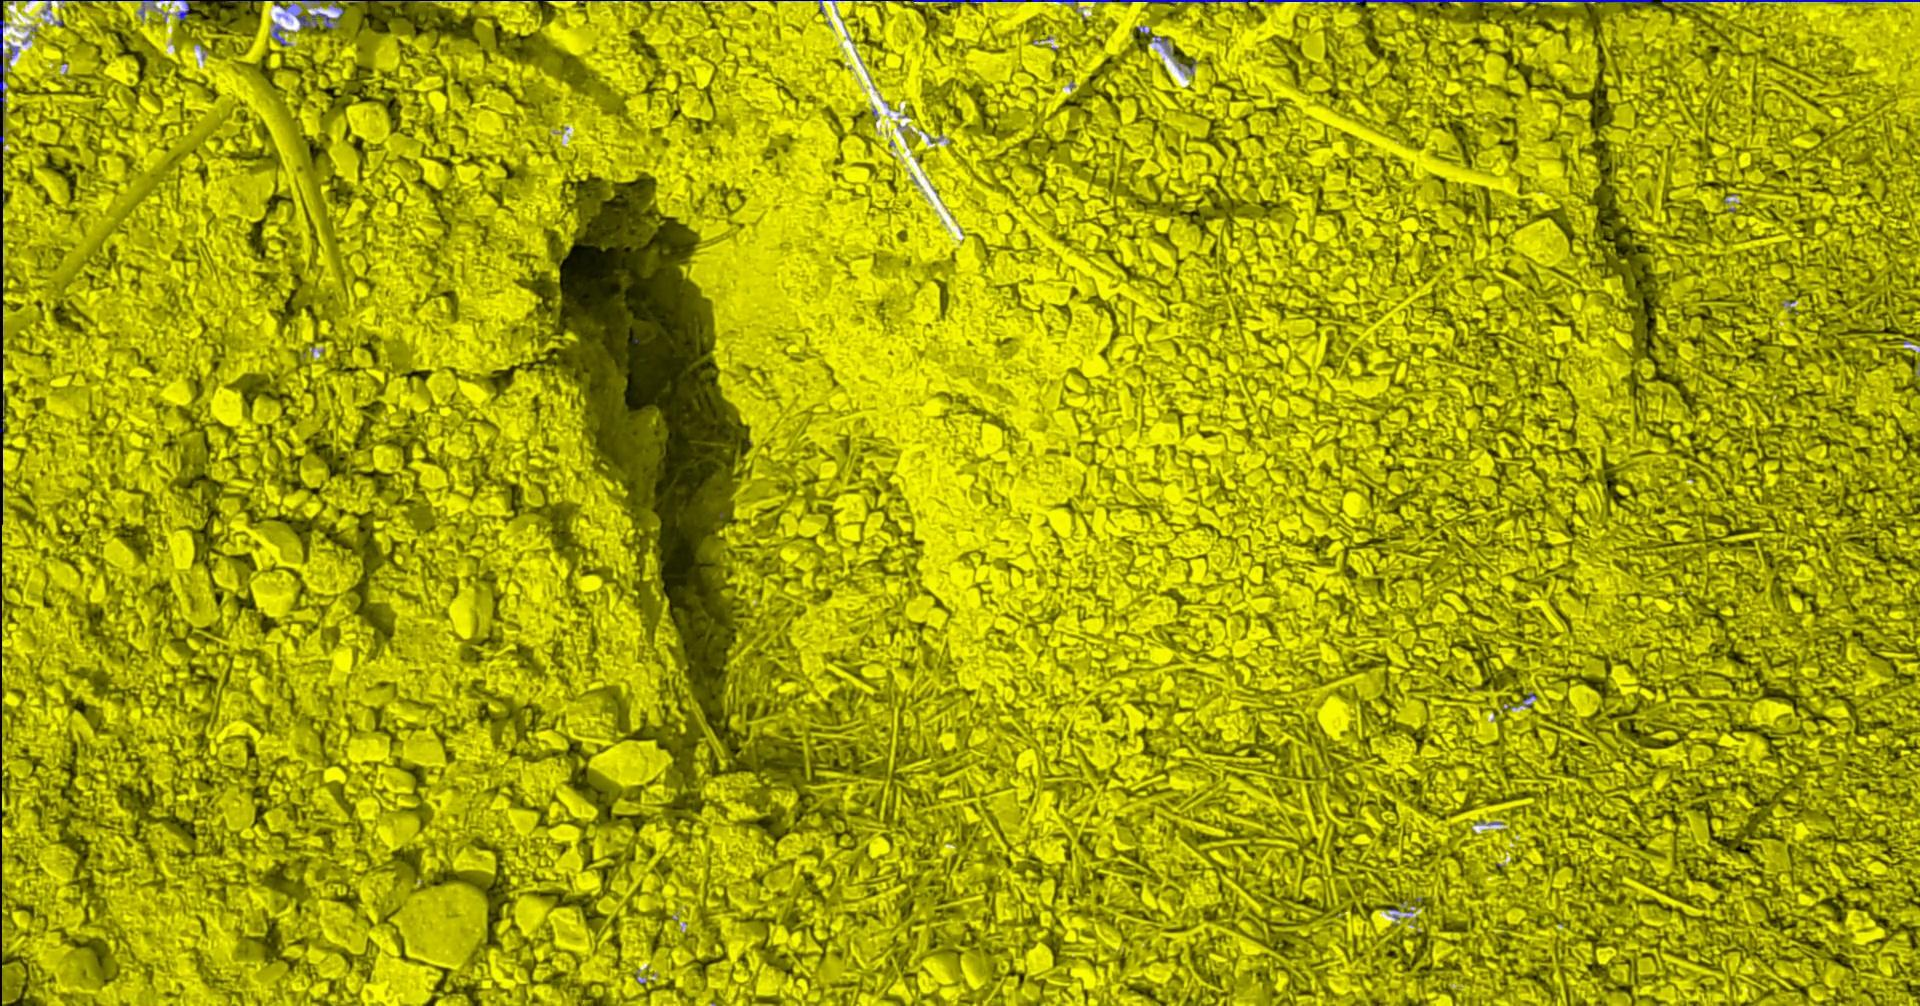ant: (1660, 0, 1919, 3), (295, 13, 331, 28), (175, 0, 189, 20), (0, 18, 5, 55)
